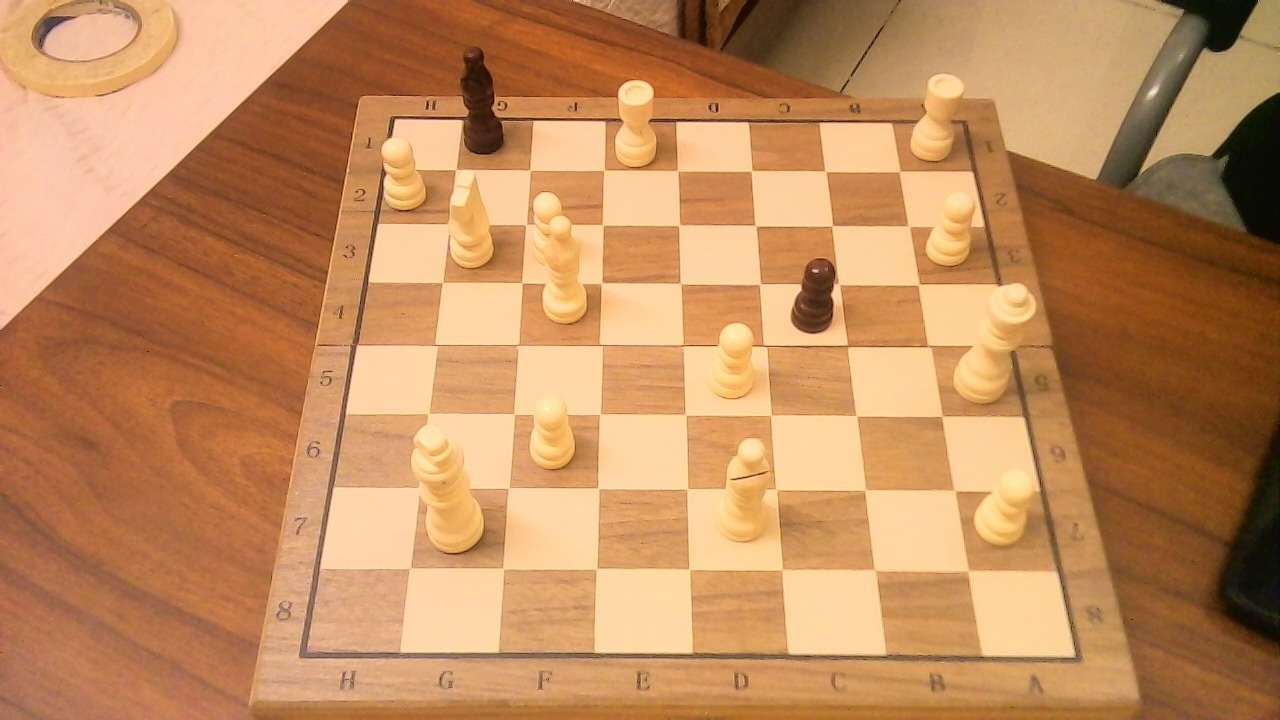B: (707, 426, 779, 548), (530, 204, 596, 329)
K: (408, 414, 493, 557)
N: (442, 162, 503, 273)
P: (968, 459, 1045, 549), (698, 312, 763, 404), (920, 182, 984, 269), (520, 384, 582, 473), (377, 129, 433, 212), (526, 182, 577, 272)
Q: (947, 269, 1043, 408)
R: (904, 63, 970, 166), (608, 69, 665, 171)
b: (456, 35, 516, 158)
p: (785, 246, 846, 338)
